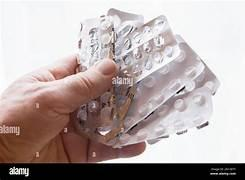pill_Strip: (76, 10, 218, 146), (114, 65, 218, 146), (114, 74, 218, 146), (93, 18, 159, 126), (124, 43, 203, 130), (115, 87, 211, 146), (116, 16, 180, 85), (116, 16, 175, 82), (156, 66, 218, 128), (142, 85, 211, 134), (121, 42, 179, 83), (120, 15, 173, 56), (107, 8, 143, 68), (107, 8, 143, 62), (79, 15, 114, 70), (79, 18, 115, 68), (78, 16, 113, 67), (107, 8, 143, 39), (195, 57, 219, 94), (194, 59, 219, 94), (195, 60, 219, 94), (195, 64, 219, 94), (176, 114, 208, 133), (177, 59, 181, 62)
